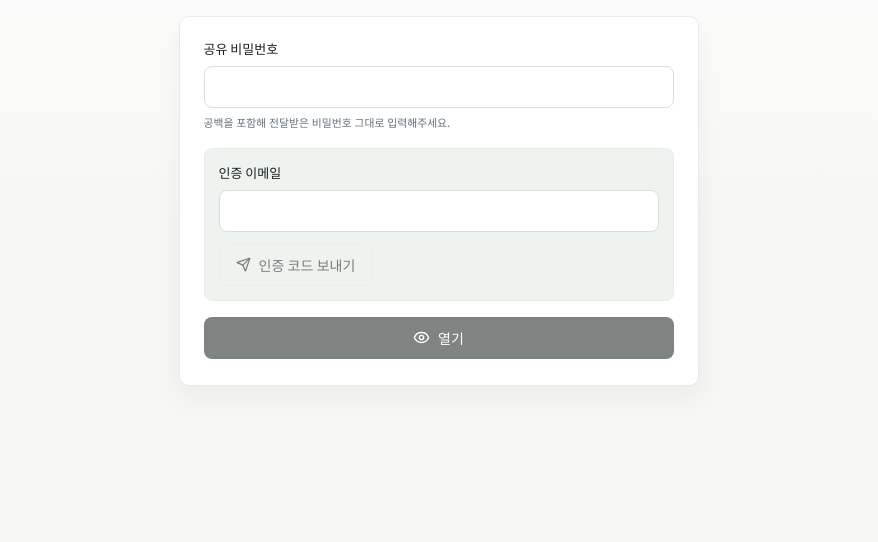
Test case: SecurePublicShareViewer › combines password and email OTP without a separate one-time confirmation
The image size is (878, 542).
Step 1. Type " 123456 " into the password field labelled "공유 비밀번호 공백을 포함해 전달받은 비밀번호 그대로 입력해주세요." → (438, 87), box [204,66,674,108]
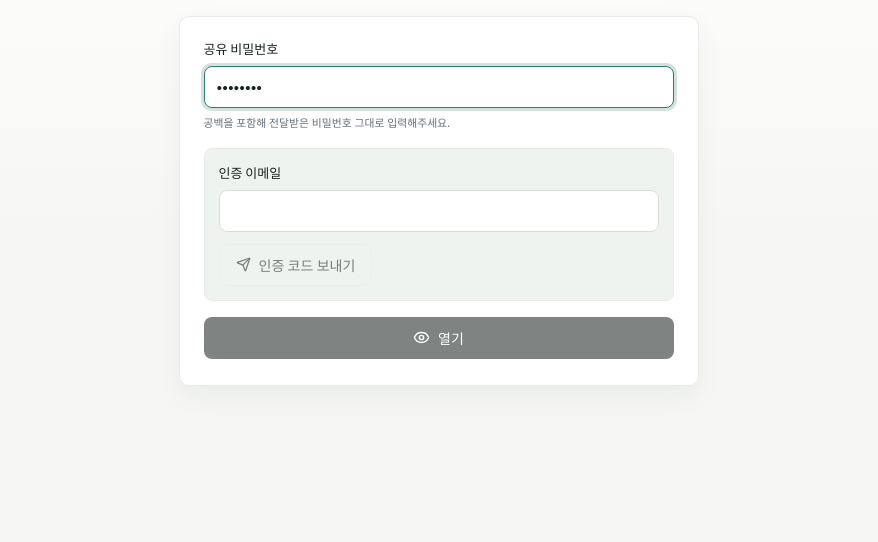
Step 2. Type "User@Example.com" into the field labelled "인증 이메일" → (438, 211), box [218,190,658,232]
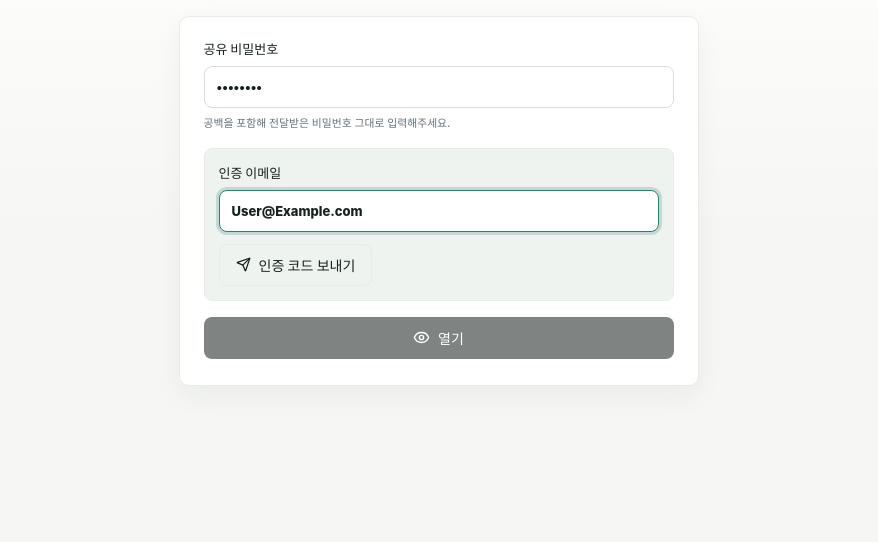
Step 3. Click the button "인증 코드 보내기" → click(295, 265), box [218,244,372,286]
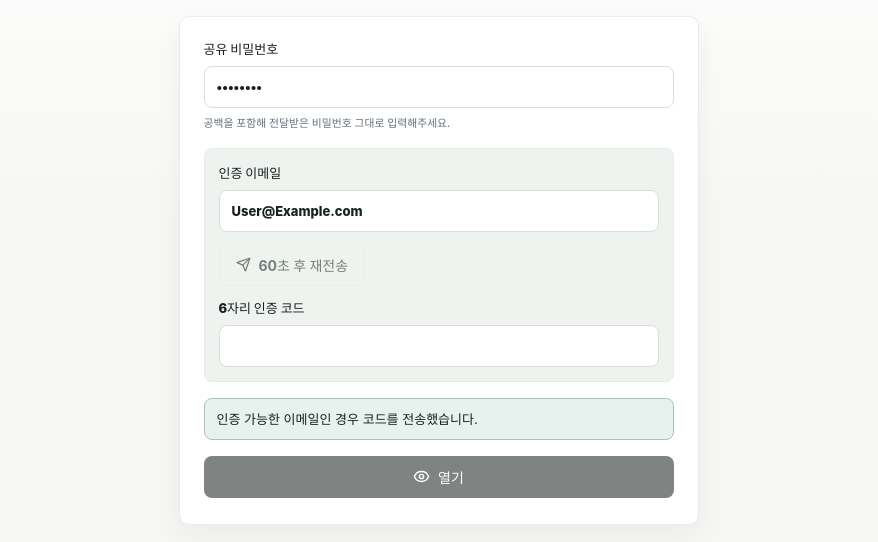
expect the text "인증 가능한 이메일인 경우 코드를 전송했습니다." is shown: met, box [204,398,674,440]
expect the button "60초 후 재전송" is disabled: met, box [218,244,365,286]
Step 4. Type "123456" into the field labelled "6자리 인증 코드" → (438, 346), box [218,325,658,367]
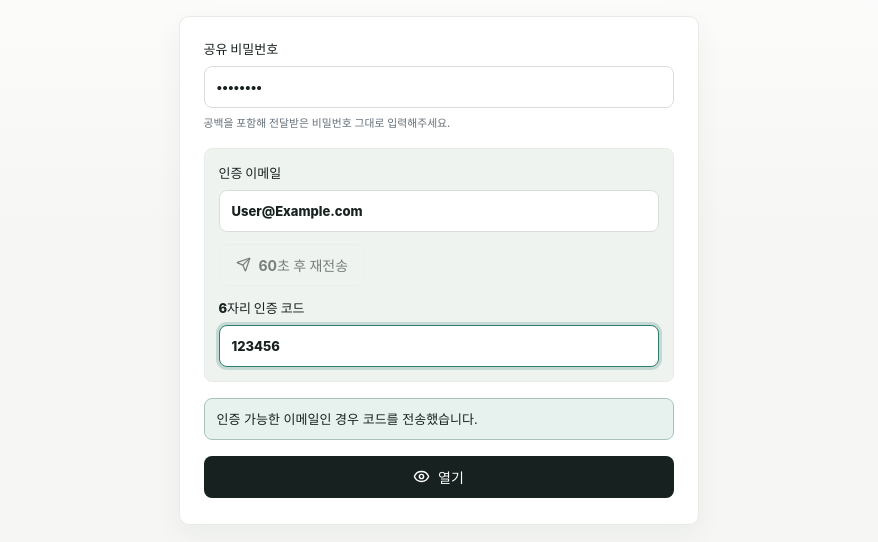
Step 5. Click the button "열기" → click(438, 477), box [204,456,674,498]
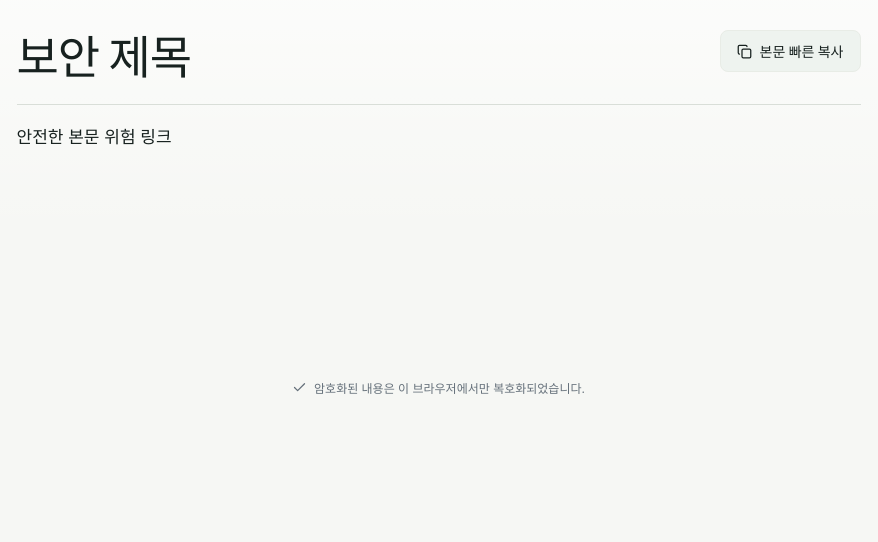
expect the heading "보안 제목" is shown: met, box [16,30,191,84]
